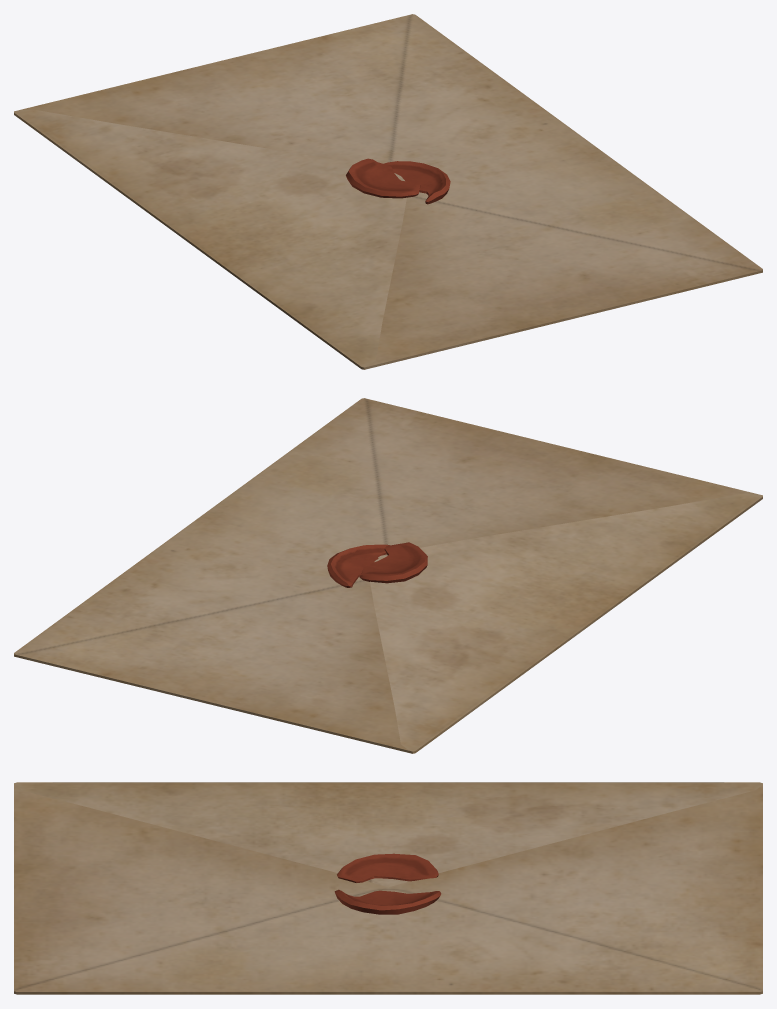
File: envelope.glb
3 views of the same model, one above another, from view 1: azimuth 30°, elevation 25°; view 2: azimuth 150°, elevation 25°; view 3: azimuth 270°, elevation 25° (orthographic). The views are drawn at different scales.
Visible parts, largest first — view 1: envelope.001; view 2: envelope.001; view 3: envelope.001.
Part boxes in pixels (x1,y1,x2,y2): envelope.001: [14, 14, 762, 369]; envelope.001: [14, 398, 762, 753]; envelope.001: [14, 782, 762, 994].
Size of the model in its own units: 0.0716 by 0.00324 by 0.1081.
Materials: 1 (1 with a texture image).
